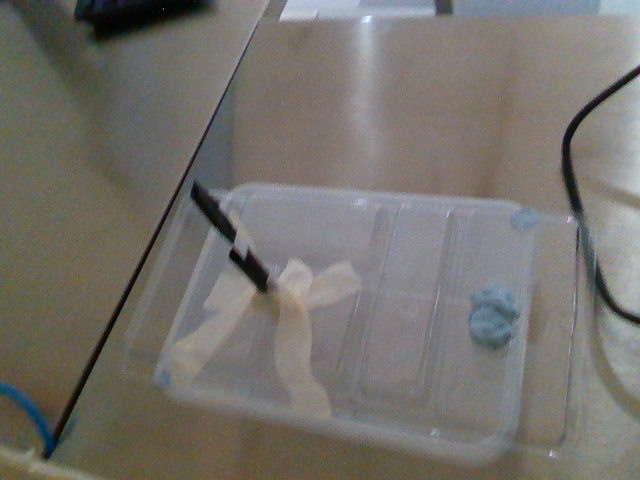test_strip: (188, 177, 249, 259)
